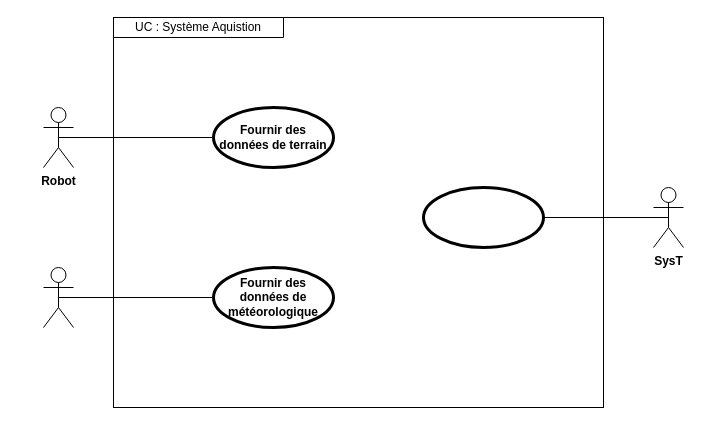
Some shapes in this 701 by 425 pixel diagram are drawn without their labels. The centre of each missing label's shape, as x and y in pixels:
"Archiver les données brutes" goes at (x=483, y=217).
"Station_météo" goes at (x=58, y=297).
